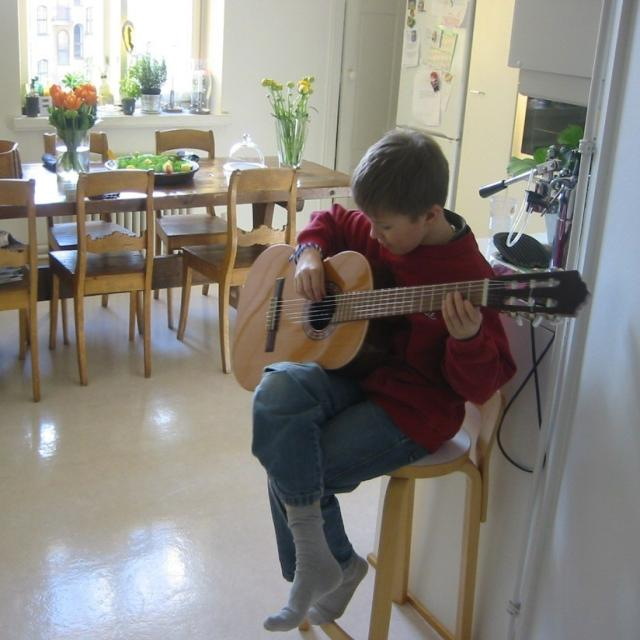guitar: (233, 244, 590, 398)
